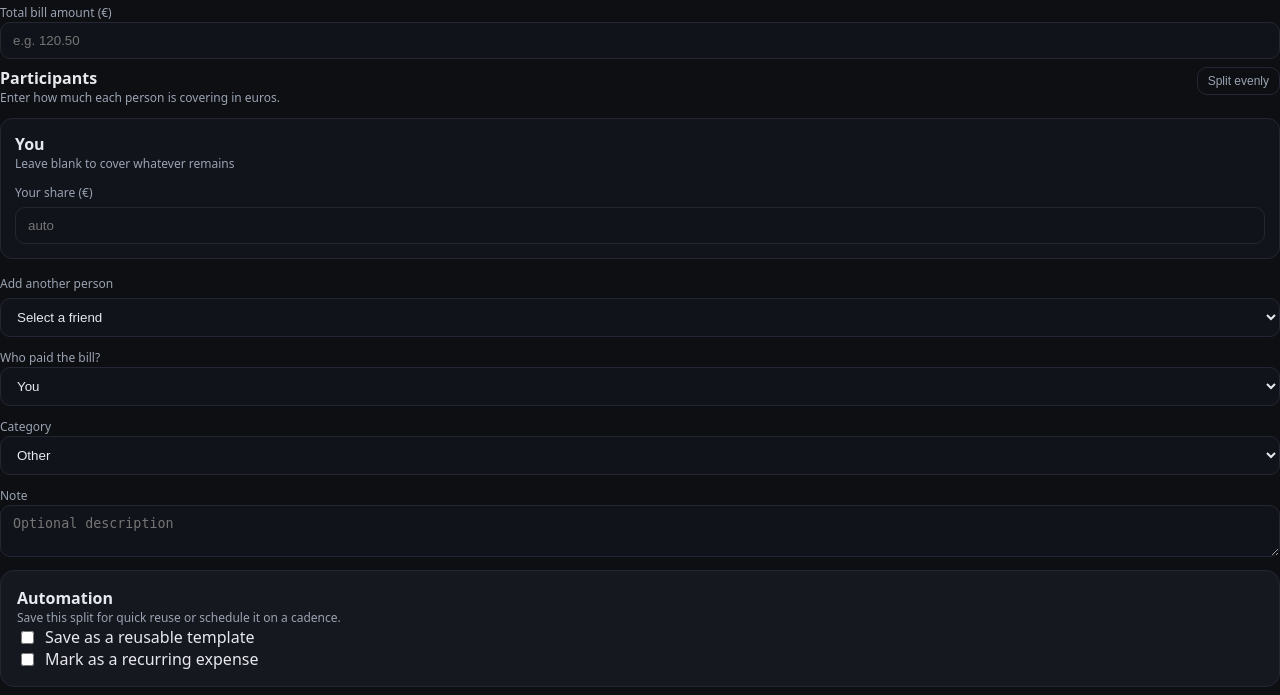
SplitForm › Input validation › accepts valid bill amount input
Type "100.50" into the number field labelled "Total bill amount (€)".
click(640, 40); type("100.50")  # box [0,22,1279,59]
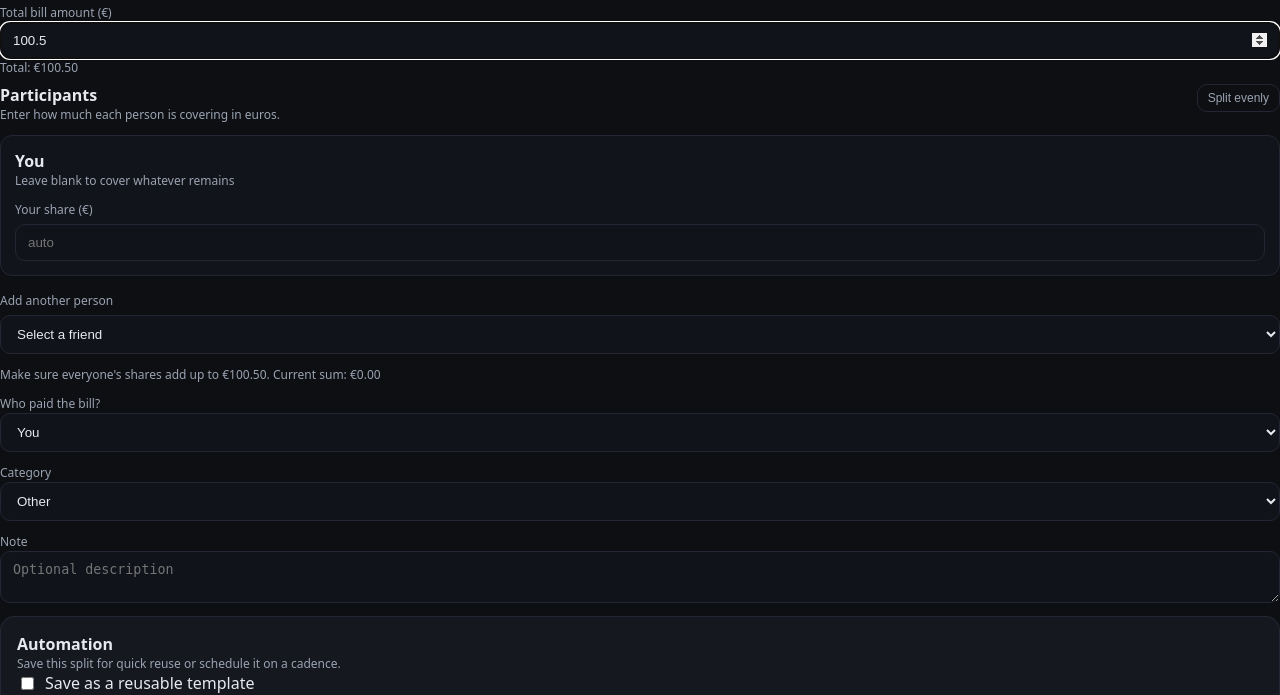
Expected: the number field labelled "Total bill amount (€)" holds "100.5", [0,22,1279,59]
